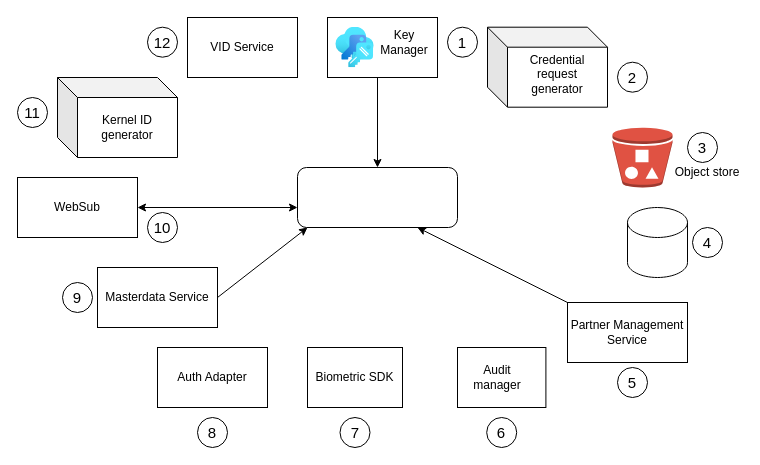
Image size: 760x465. Some labels were removed from this diagram. Each missing label, with the box of its shape:
DB: (626, 206, 688, 278)
Identity Service: (296, 166, 458, 228)
